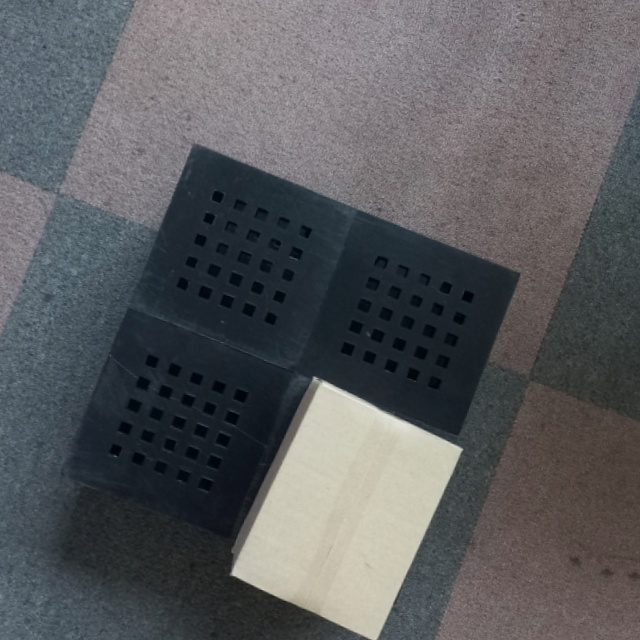box: (226, 375, 466, 639)
pallet: (58, 139, 529, 595)
